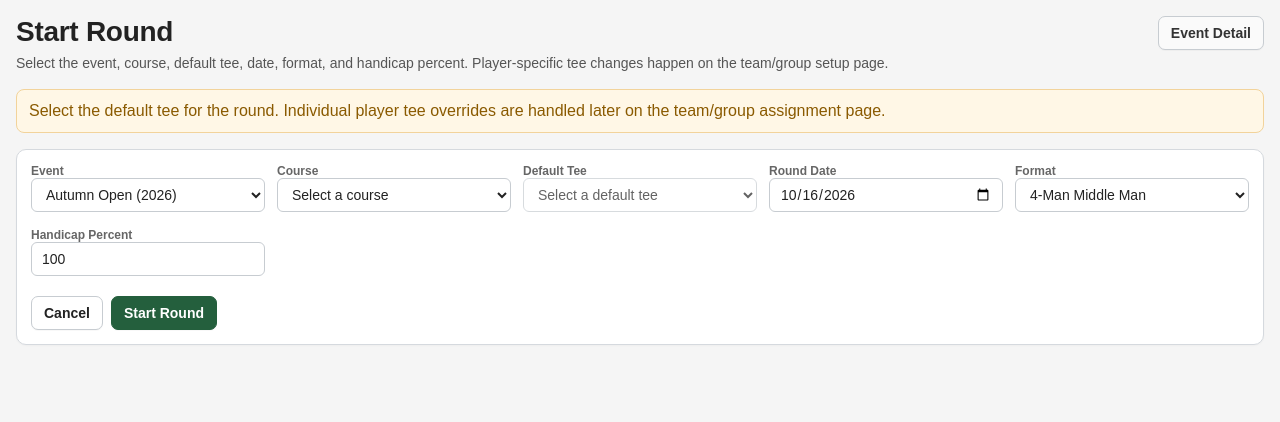
Test: Round setup page characterization (before extraction) › requires a default tee when multiple tees are available
This screenshot has width=1280, height=422.
Expected: the dropdown labelled "Event" is shown, [31,178,265,212]
Select "Lake Course — North Hills" in the dropdown labelled "Course": {"x": 394, "y": 195} [277,178,511,212]
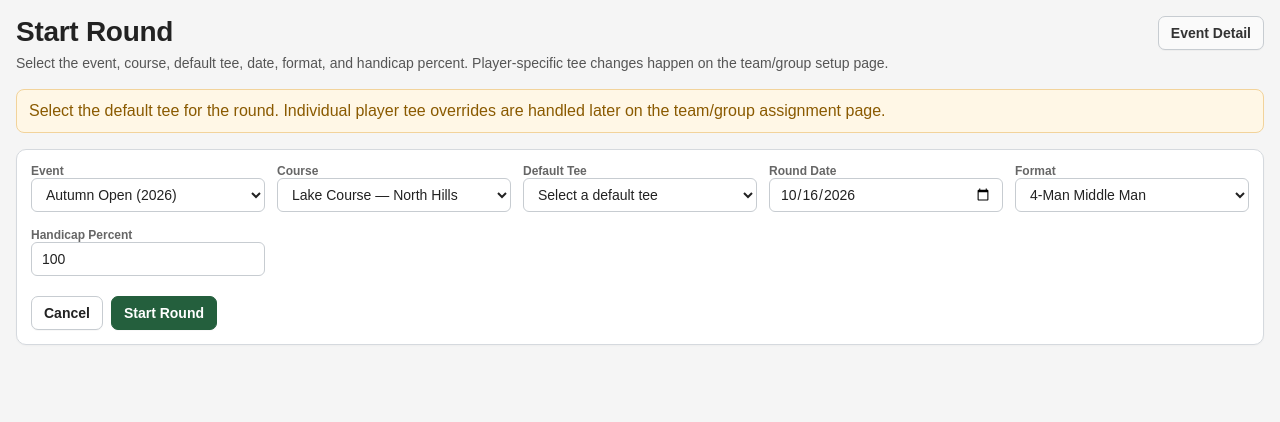
Click the button "Start Round": {"x": 164, "y": 313} [111,296,217,330]
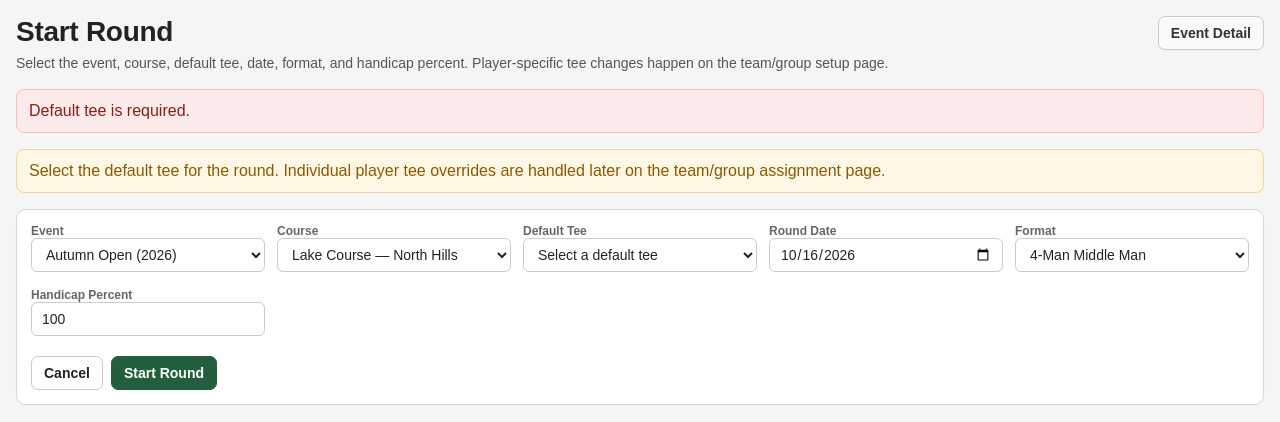
Expected: the text "Default tee is required." is shown, [16,89,1264,133]
